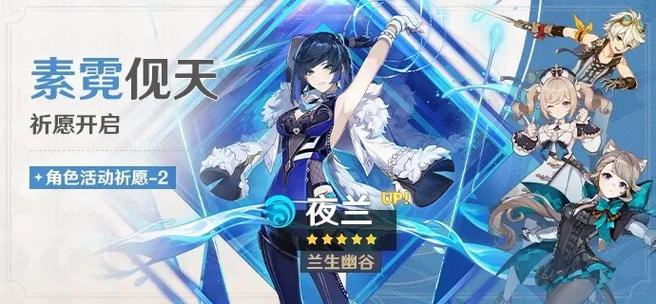夜兰: (256, 15, 426, 304)
